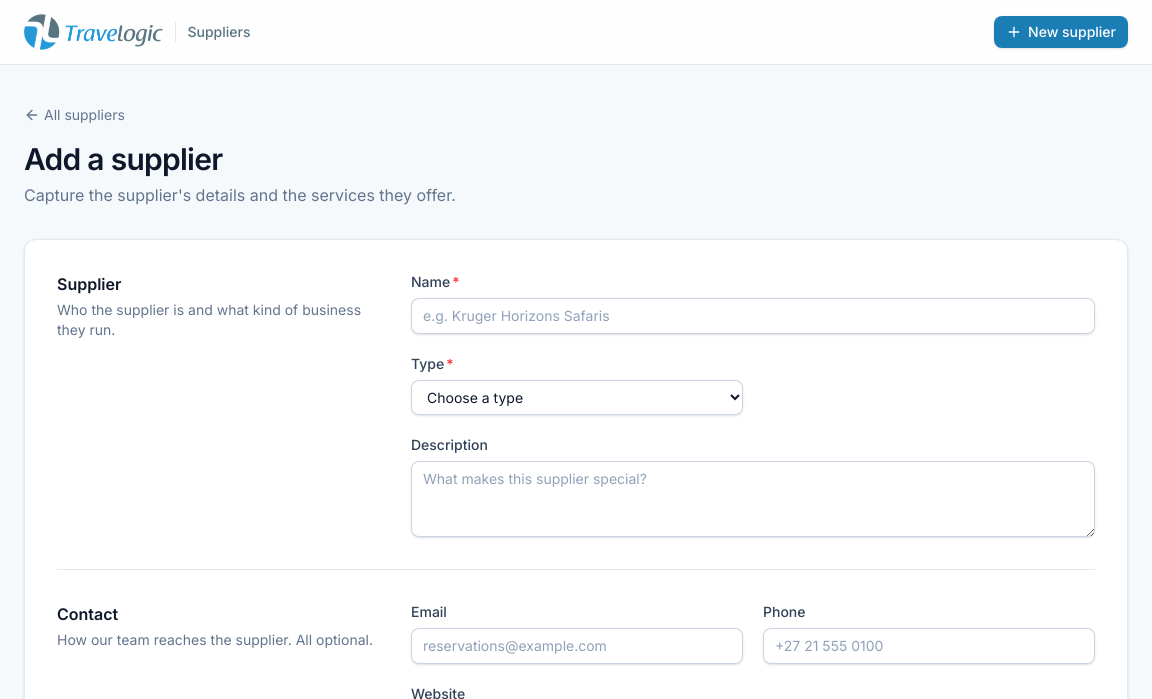
Test case: Add supplier › shows a conflict from the API
In the field labelled "Name*": (753, 316) [411,298,1095,334], type "Dup"
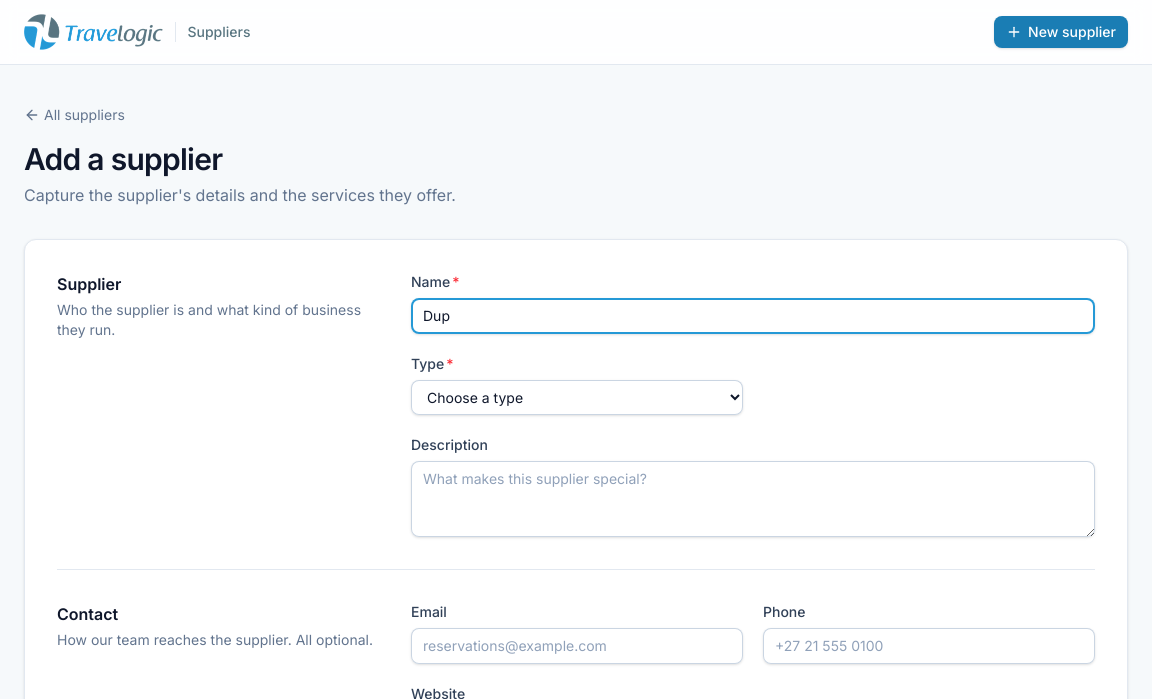
Select "Safari" in the dropdown labelled "Type*": (577, 398) [411,380,743,415]
(page scrolled)
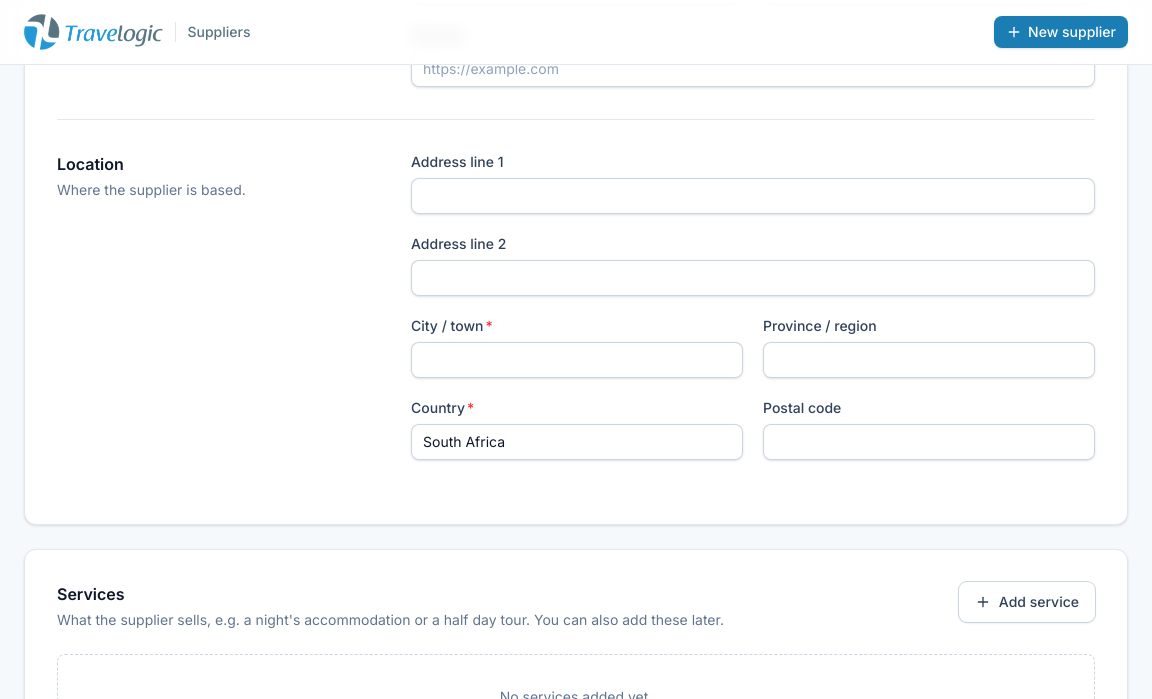
In the field labelled "City / town*": (577, 360) [411,342,743,378], type "Hazyview"
(page scrolled)
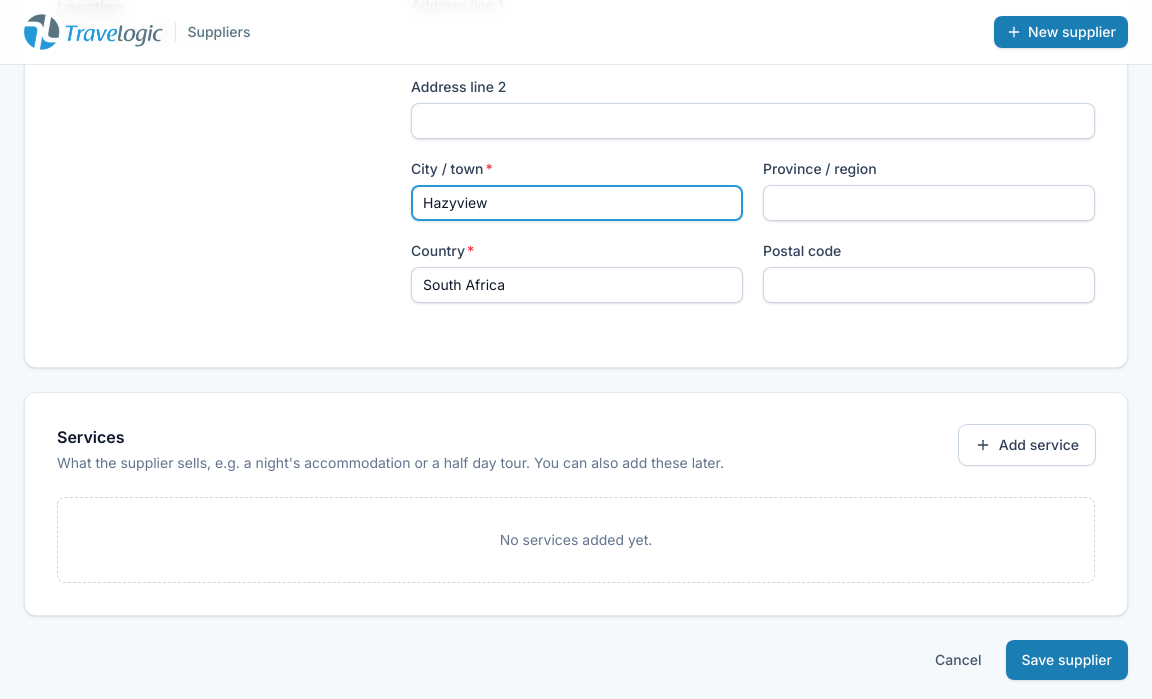
Click the button "Save supplier": (1067, 660) [1006,640,1128,680]
(page scrolled)
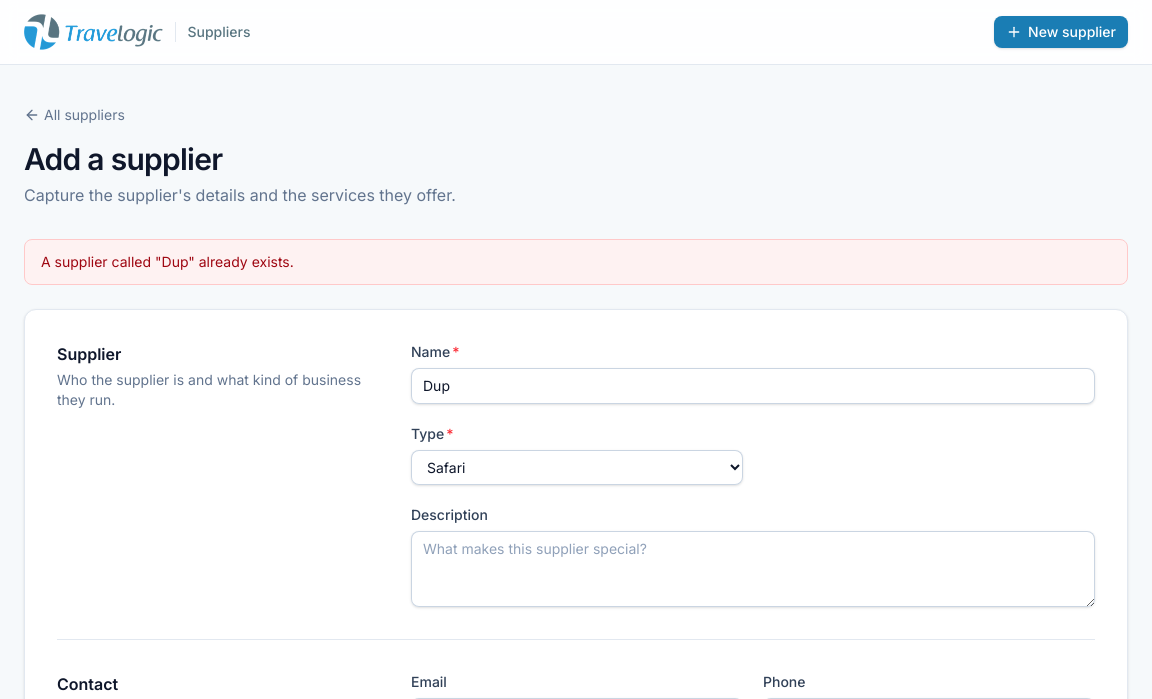
Expected: the message reads "A supplier called \"Dup\" already exists.", [41,253,294,270]
